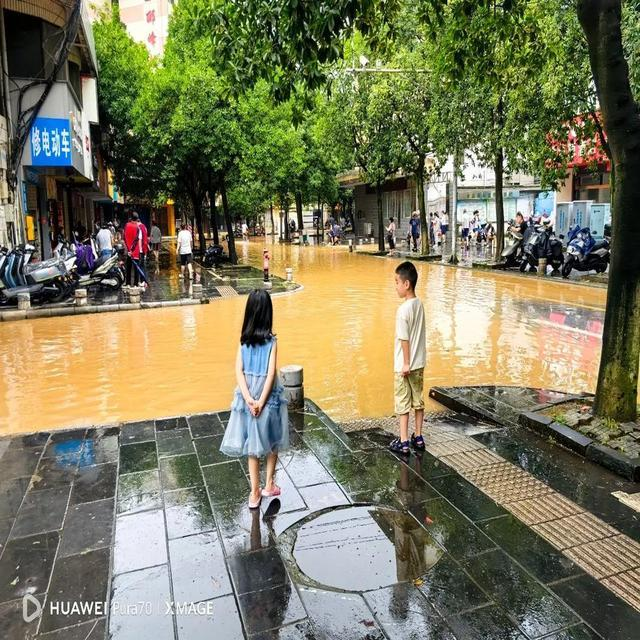Person-RiskLevel1: (213, 280, 302, 520), (363, 265, 444, 457), (168, 220, 203, 289)
